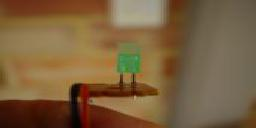LED: (115, 47, 145, 90)
